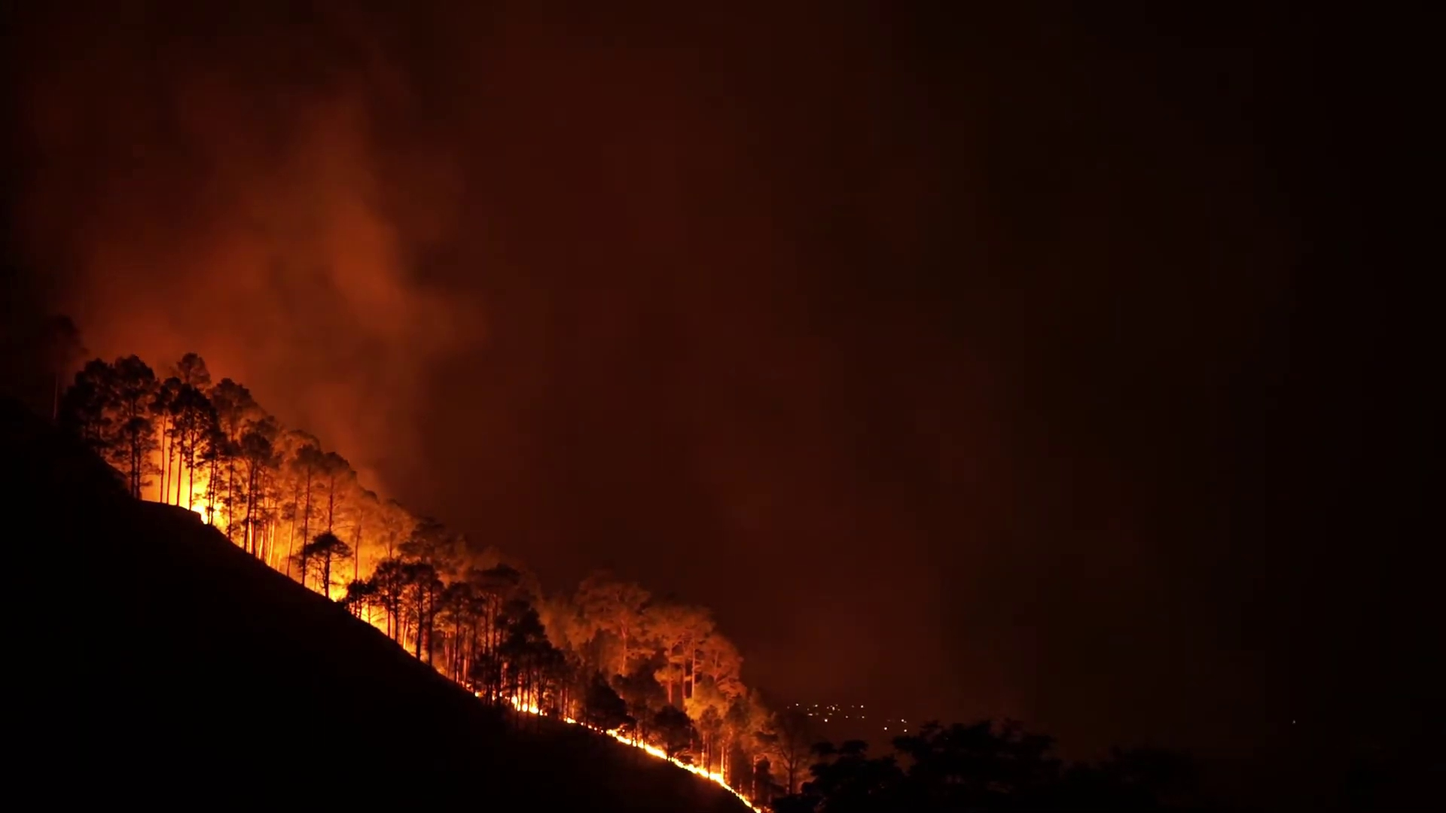forest_fire: (56, 354, 797, 810), (789, 776, 795, 784), (789, 771, 793, 773)
